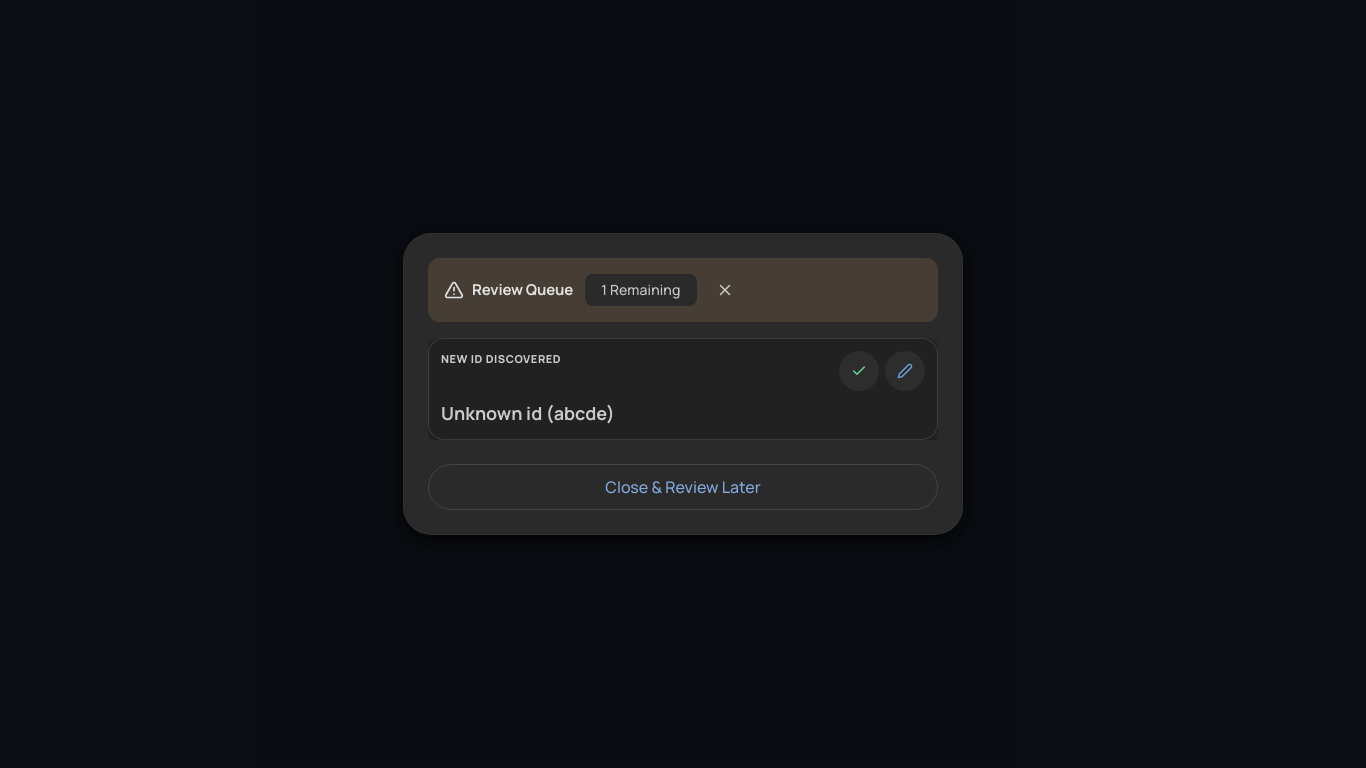
Scenario: ReviewQueueModal › unknown_id items still require naming before confirmation
Click the button titled "Confirm/Identify": (859, 371) [839, 351, 879, 391]
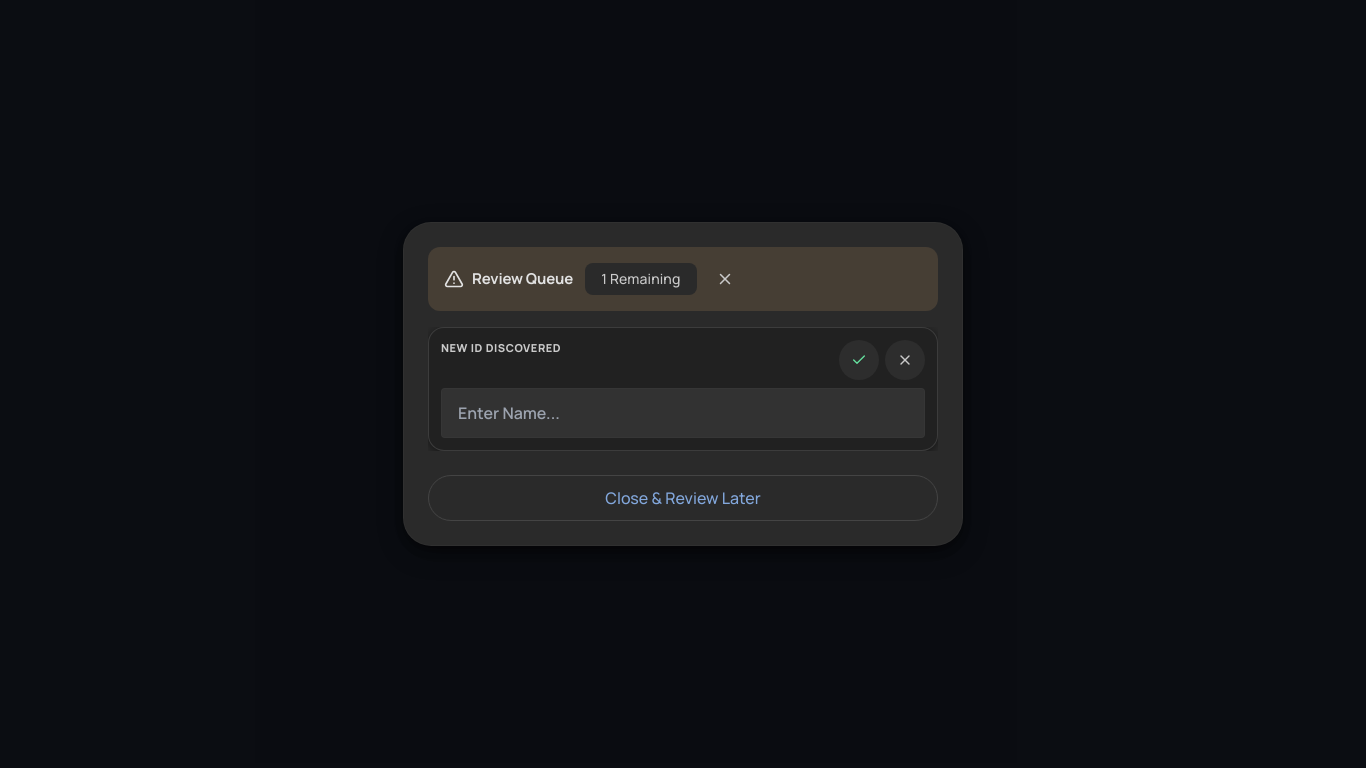
Expected: the field with placeholder "Enter Name..." is shown, [441, 388, 925, 438]
